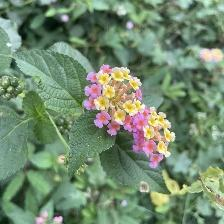common lanthana: (83, 63, 146, 140)
